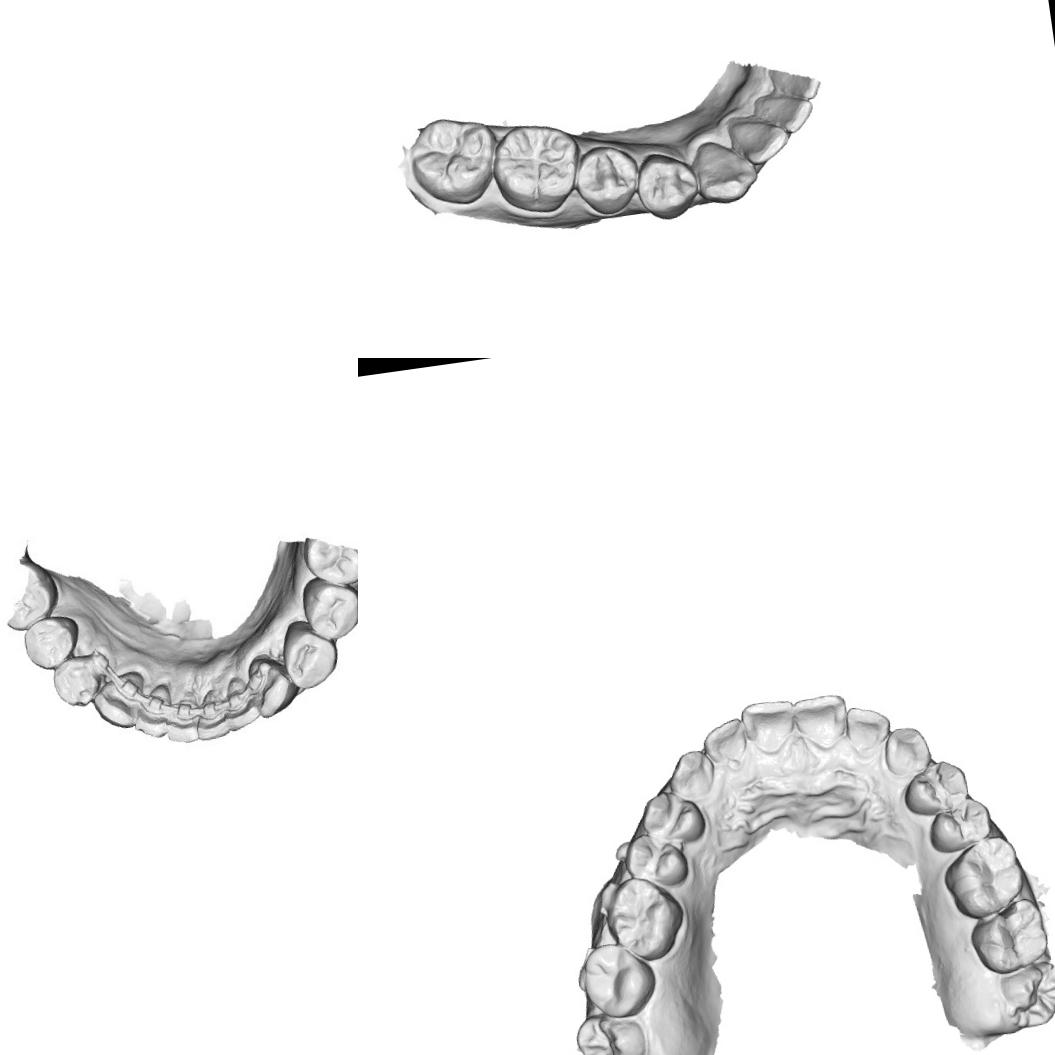canine: (688, 132, 761, 209), (51, 650, 112, 713), (664, 746, 720, 806), (880, 722, 934, 780), (246, 657, 296, 714)
incisor: (790, 690, 852, 754), (738, 695, 800, 756), (749, 88, 817, 140), (730, 113, 792, 169), (842, 699, 894, 759), (92, 674, 146, 730), (698, 715, 748, 768), (220, 680, 262, 734), (132, 681, 174, 735), (166, 692, 209, 744), (194, 686, 233, 740)
molar: (486, 117, 588, 220), (404, 109, 501, 212), (596, 870, 690, 968), (937, 832, 1030, 924), (573, 937, 661, 1024), (964, 894, 1054, 978), (995, 955, 1055, 1032), (572, 1008, 652, 1055)
premolar: (569, 142, 641, 219), (634, 150, 700, 225), (638, 785, 710, 851), (898, 756, 972, 819), (620, 828, 690, 894), (924, 793, 996, 856), (21, 615, 81, 674), (282, 621, 338, 683), (303, 581, 358, 641)
